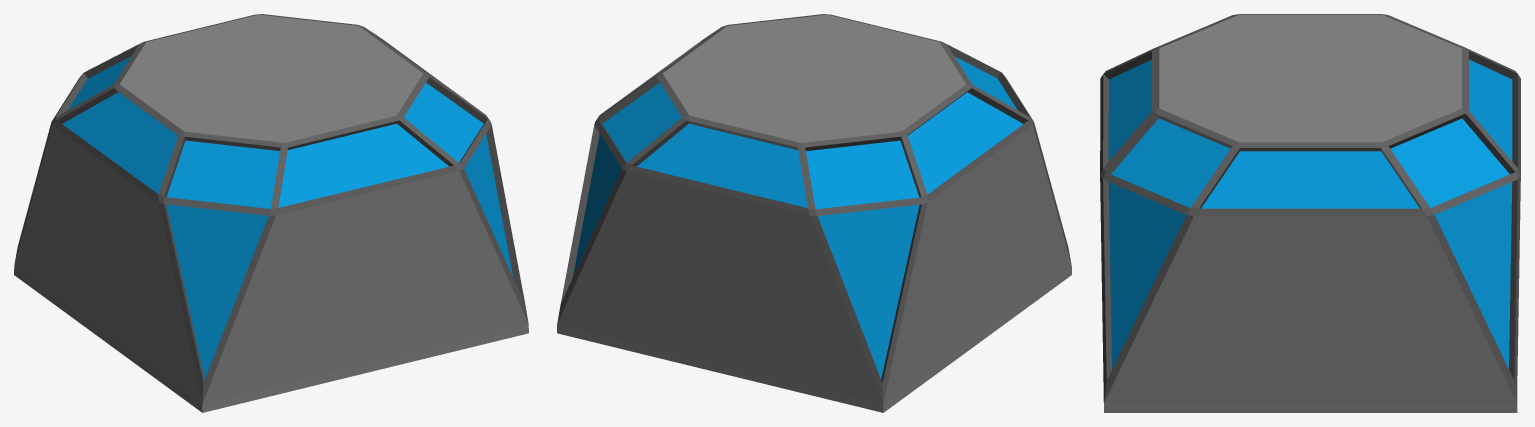
The model's file is Roof4.glb.
3 views of the same model, side by side, from view 1: azimuth 30°, elevation 25°; view 2: azimuth 150°, elevation 25°; view 3: azimuth 270°, elevation 25° (orthographic). The views are drawn at different scales.
Parts seen in each view (by area): view 1: Cube; view 2: Cube; view 3: Cube.
Boxes of the visible parts, x1,y1,x2,y2 form: Cube: (14, 14, 528, 412); Cube: (557, 14, 1071, 412); Cube: (1100, 14, 1520, 412).
Size of the model in its own units: 16.29 by 10.56 by 16.29.
Materials: 2 (2 with a texture image).
